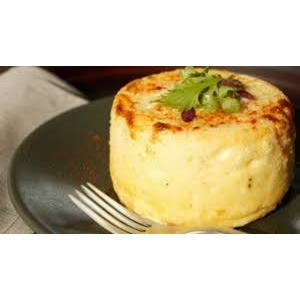cheese_brain food: (109, 86, 279, 219)
